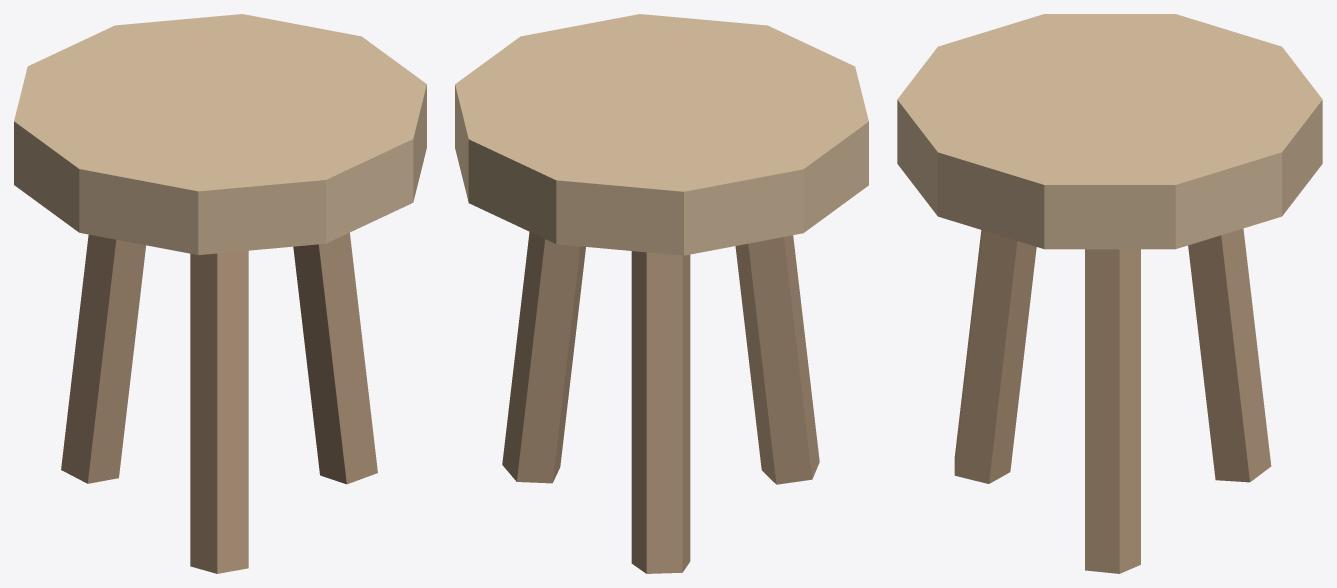
The model's file is prop_stool.glb.
The picture shows the model from 3 angles, left to right: view 1: azimuth 30°, elevation 25°; view 2: azimuth 150°, elevation 25°; view 3: azimuth 270°, elevation 25°; orthographic projection.
Parts seen in each view (by area): view 1: prop_stool; view 2: prop_stool; view 3: prop_stool.
Boxes of the visible parts, x1,y1,x2,y2 form: prop_stool: (14, 14, 426, 573); prop_stool: (455, 14, 868, 573); prop_stool: (897, 14, 1322, 573).
Size of the model in its own units: 0.4565 by 0.5041 by 0.48.
